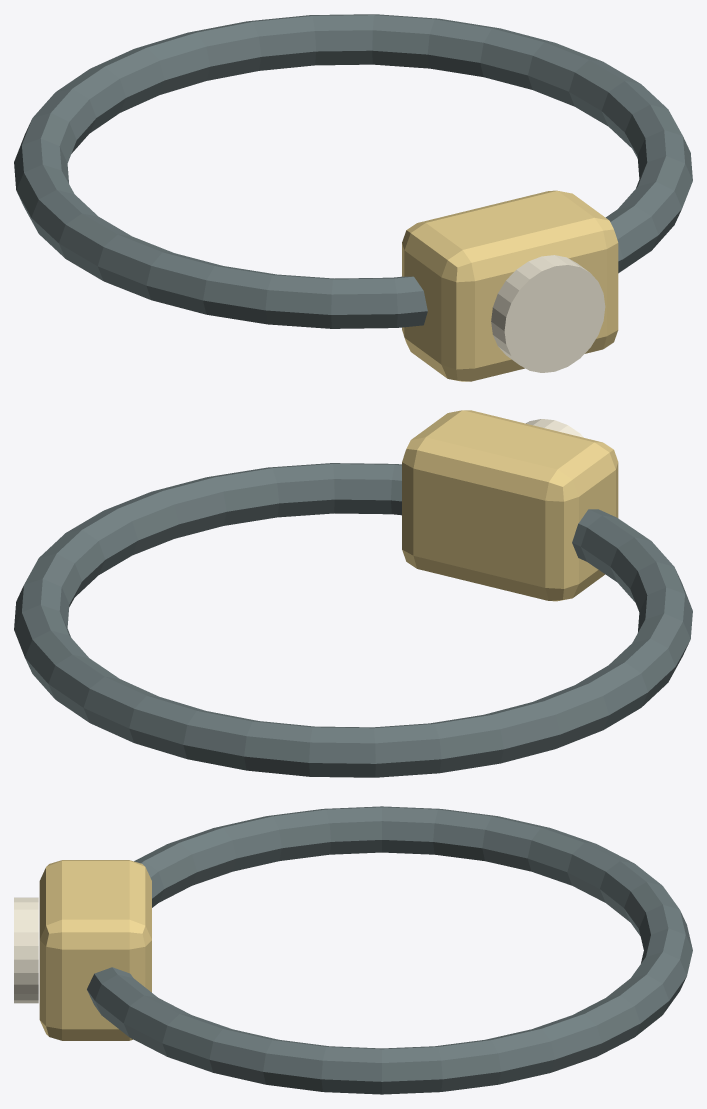
The picture shows the model from 3 angles, top to bottom: view 1: azimuth 30°, elevation 25°; view 2: azimuth 150°, elevation 25°; view 3: azimuth 270°, elevation 25°; orthographic projection. The views are drawn at different scales.
Parts seen in each view (by area): view 1: elastic headband, lamp housing, lamp lens; view 2: elastic headband, lamp housing; view 3: elastic headband, lamp housing, lamp lens.
Boxes of the visible parts, x1,y1,x2,y2 form: elastic headband: (14, 14, 692, 328); lamp housing: (402, 190, 618, 381); lamp lens: (491, 255, 605, 372); elastic headband: (14, 463, 692, 777); lamp housing: (402, 410, 618, 601); elastic headband: (87, 806, 692, 1094); lamp housing: (39, 860, 151, 1040); lamp lens: (14, 897, 38, 1003).
Size of the model in its own units: 0.304 by 0.065 by 0.332.
